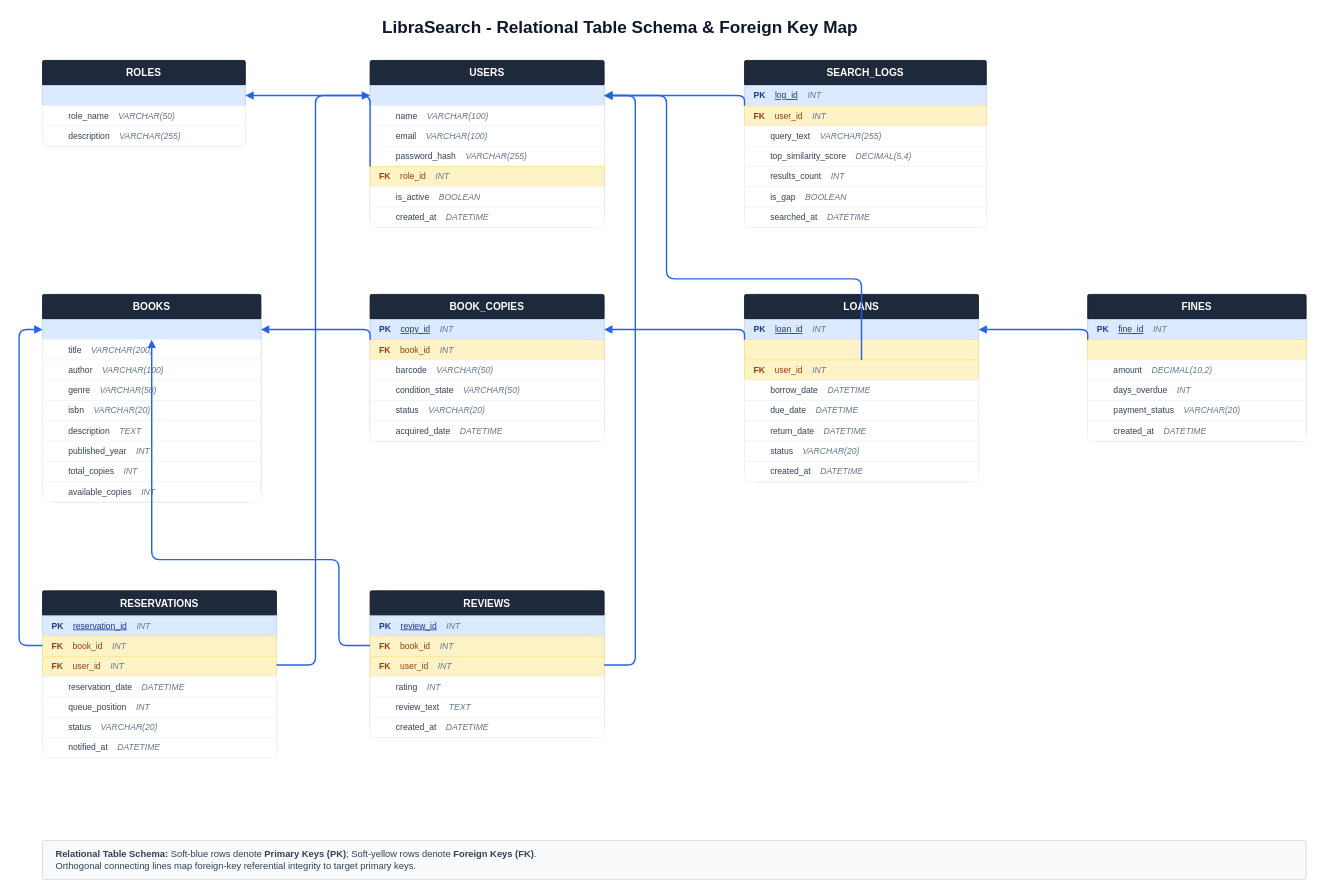
This 1321x893 diagram has some shape labels left out. The shapes that lost their labels are listed below. From the top down, each one's centre as x and y in pixels, then its label:
At pixel 143 95: "PK role_id INT".
At pixel 486 95: "PK user_id INT".
At pixel 151 329: "PK book_id INT".
At pixel 861 349: "FK copy_id INT".
At pixel 1196 349: "FK loan_id INT".
